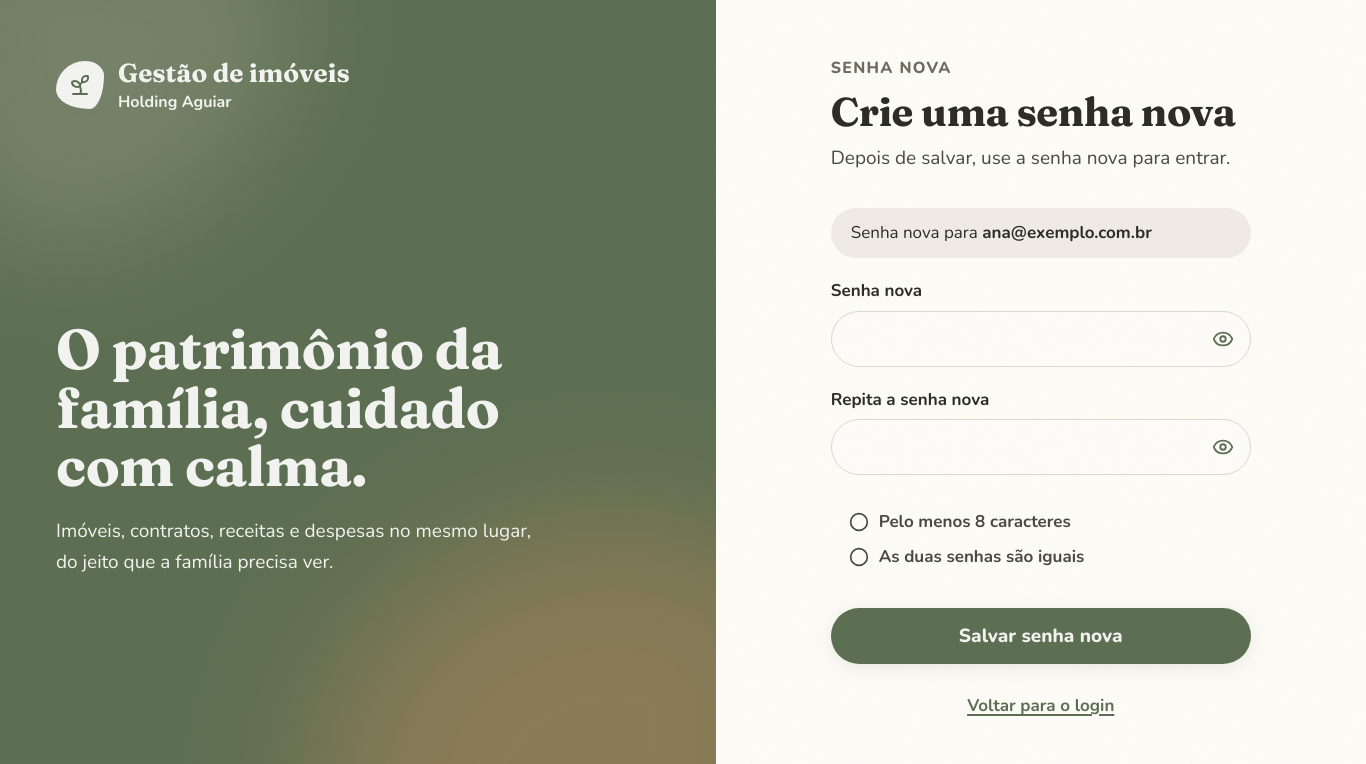
Test: Redefinir senha › não salva senha curta e leva ao erro
In the password field labelled "Senha nova": (1041, 339) [831,311,1251,367], type "curta"
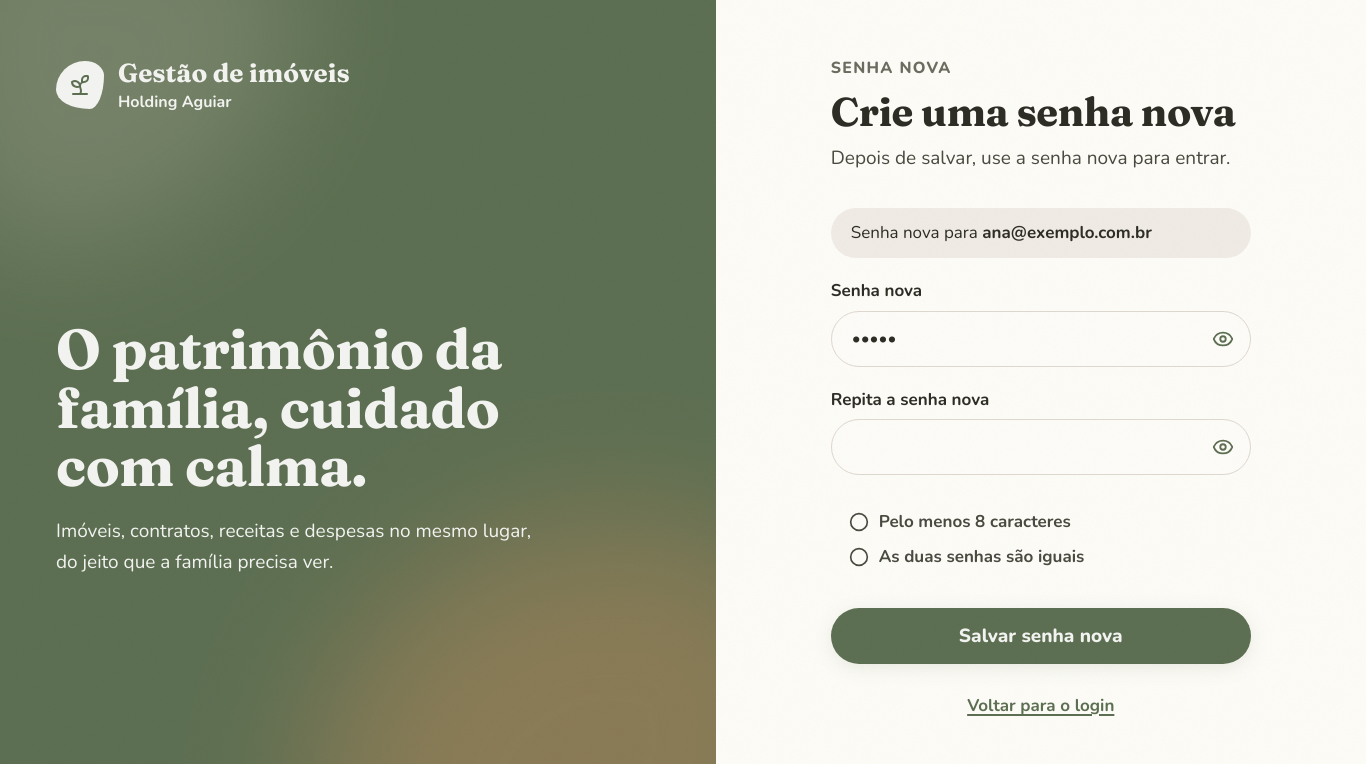
In the password field labelled "Repita a senha nova": (1041, 447) [831,419,1251,475], type "curta"
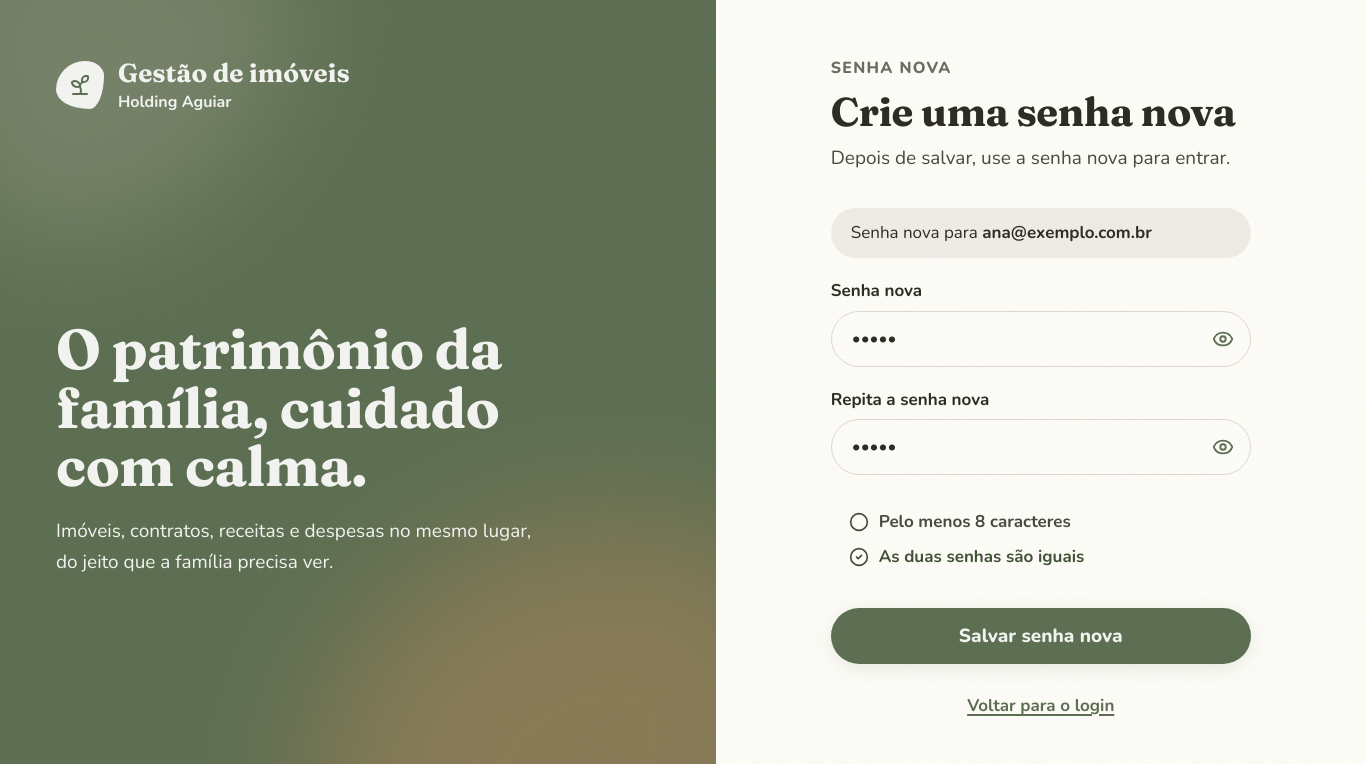
Click the button "Salvar senha nova": click(1041, 636) [831,608,1251,664]
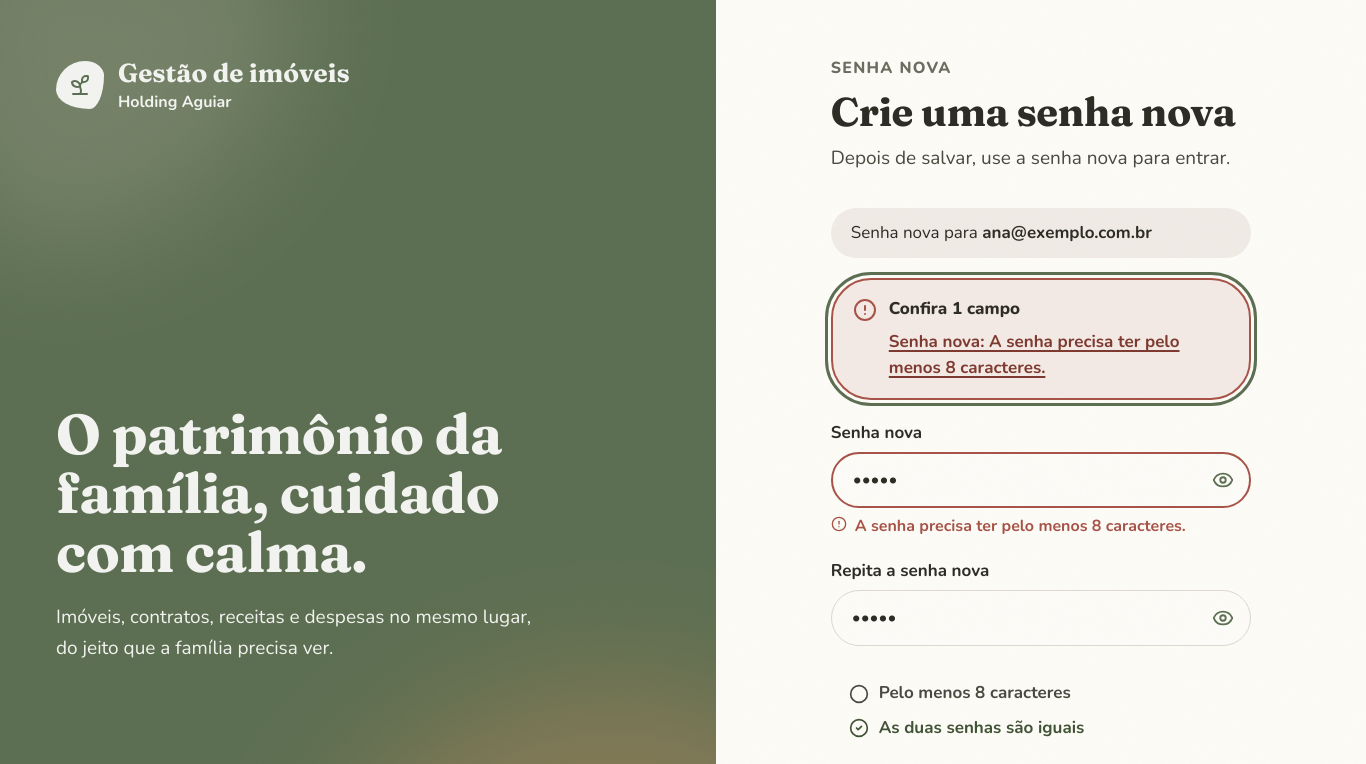
Result: the link "Senha nova: A senha precisa ter pelo menos 8 caracteres." is shown at [889,329,1229,382]
